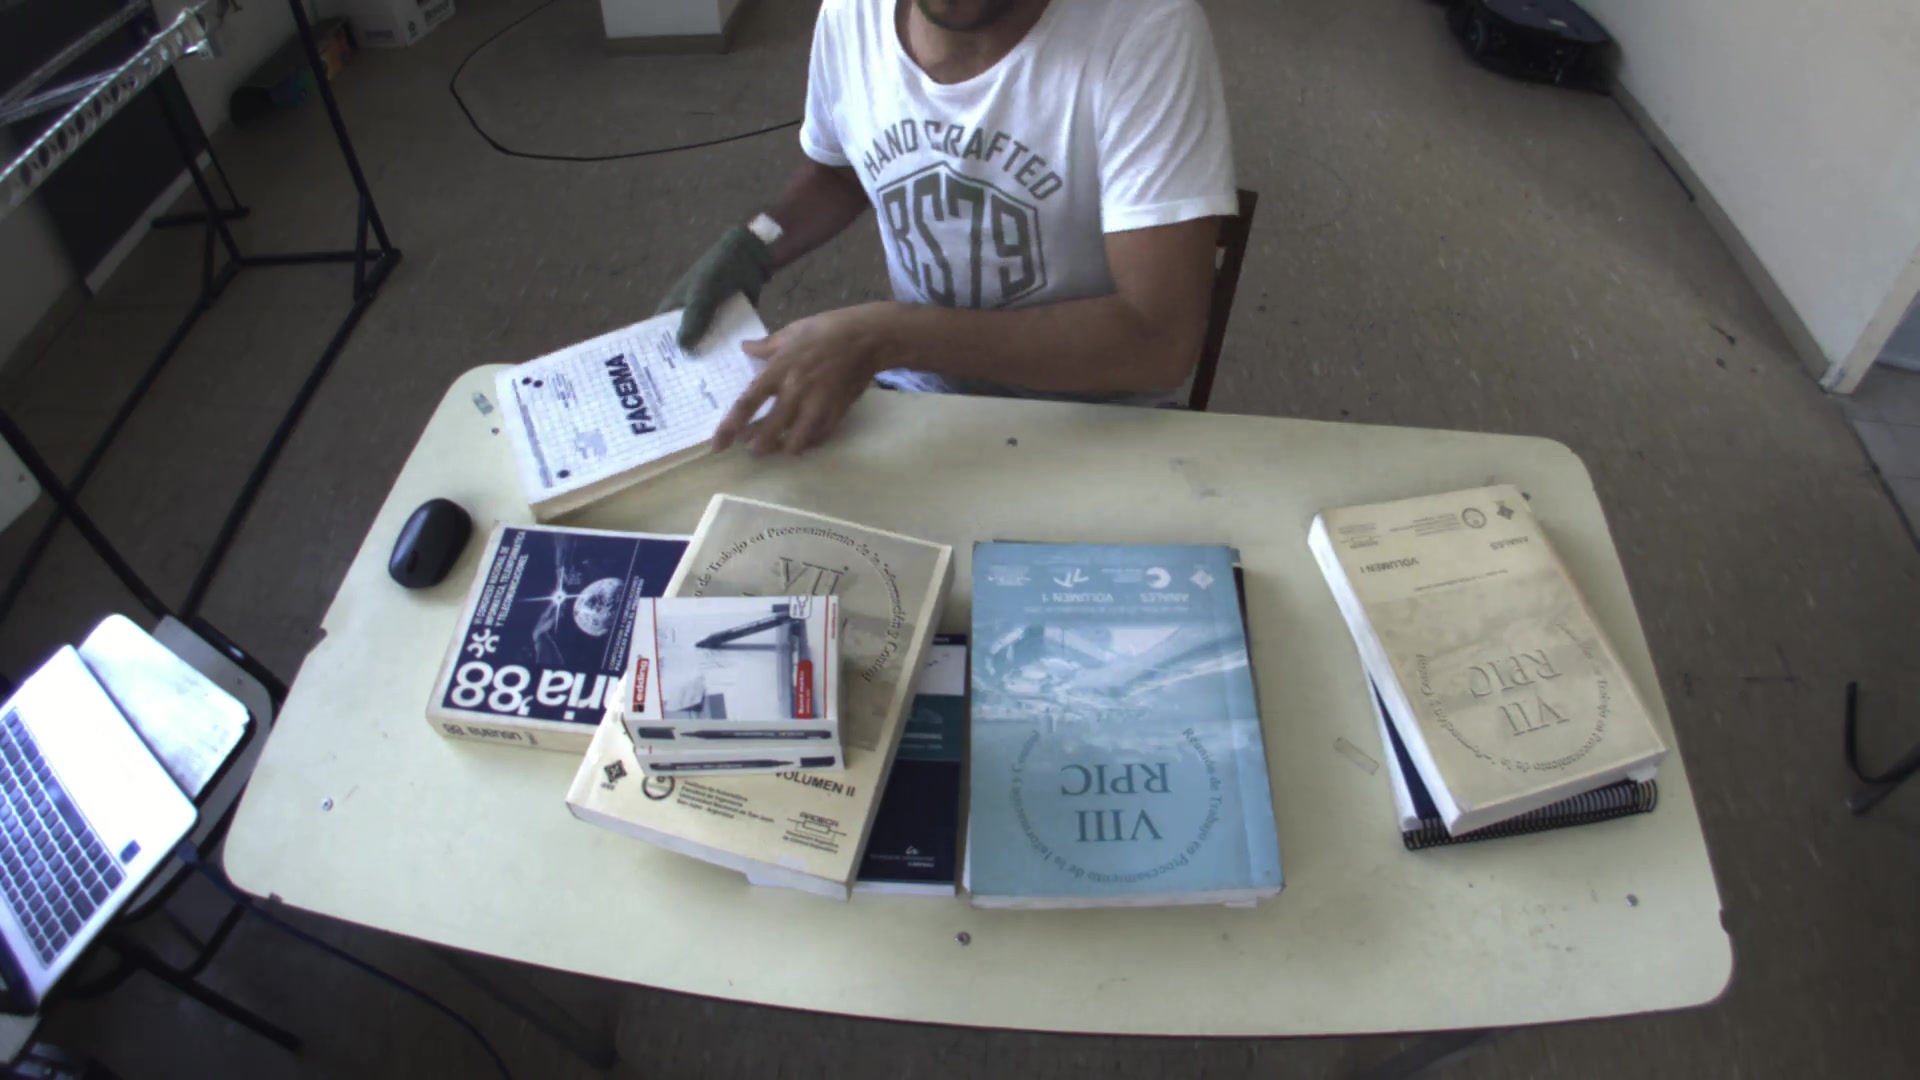hand: (708, 299, 891, 459), (659, 223, 775, 345)
